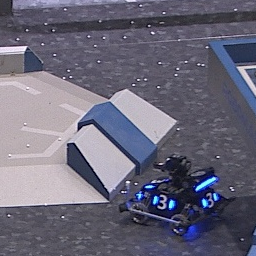Blue: (152, 193, 177, 212), (200, 193, 221, 209)
Robot: (116, 154, 233, 235)
